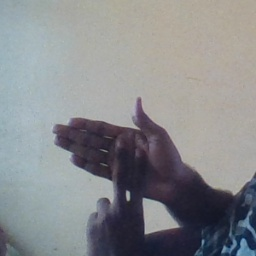N: (33, 91, 186, 240)
